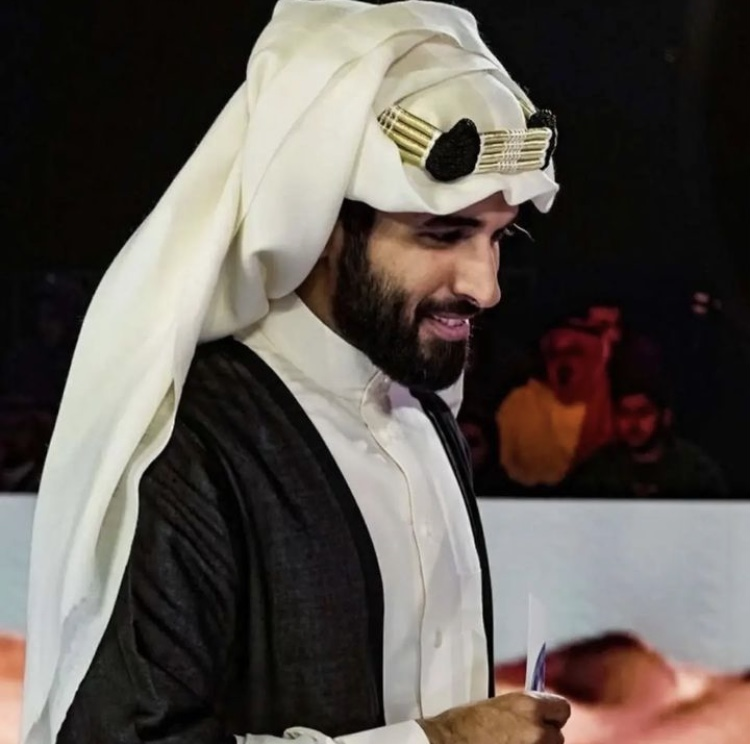Saudi_Founding_Day: (19, 1, 572, 743)
